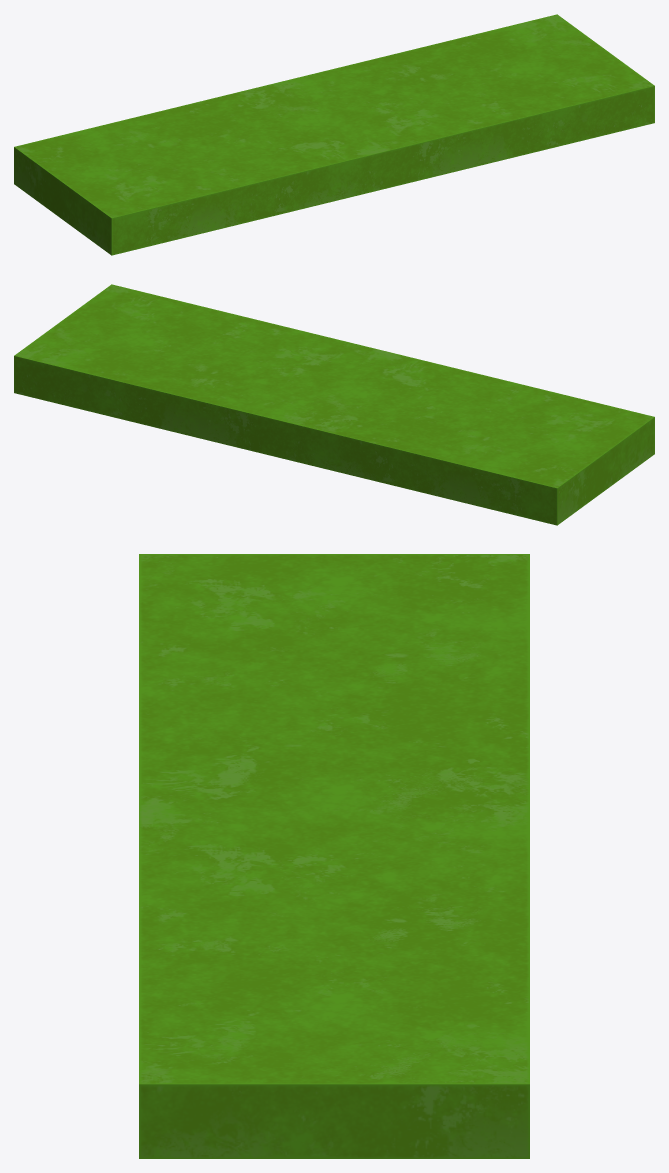
File: PlatformGreen (1).fbx
The picture shows the model from 3 angles, top to bottom: view 1: azimuth 30°, elevation 25°; view 2: azimuth 150°, elevation 25°; view 3: azimuth 270°, elevation 25°; orthographic projection. The views are drawn at different scales.
Parts seen in each view (by area): view 1: PlatformGreen; view 2: PlatformGreen; view 3: PlatformGreen.
Boxes of the visible parts, x1,y1,x2,y2 form: PlatformGreen: [14, 14, 654, 255]; PlatformGreen: [14, 284, 654, 525]; PlatformGreen: [139, 554, 529, 1158].
Bounding box in the file's own units: 1383 × 90.52 × 431.
